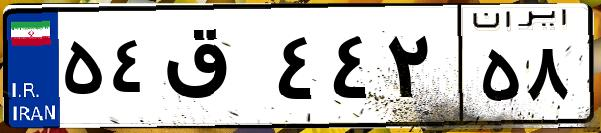2: (385, 28, 445, 110)
4: (270, 28, 330, 110), (330, 28, 385, 110), (110, 28, 158, 98)
5: (57, 26, 110, 100), (475, 38, 525, 113)
8: (525, 38, 570, 115)
ق: (158, 20, 270, 120)
